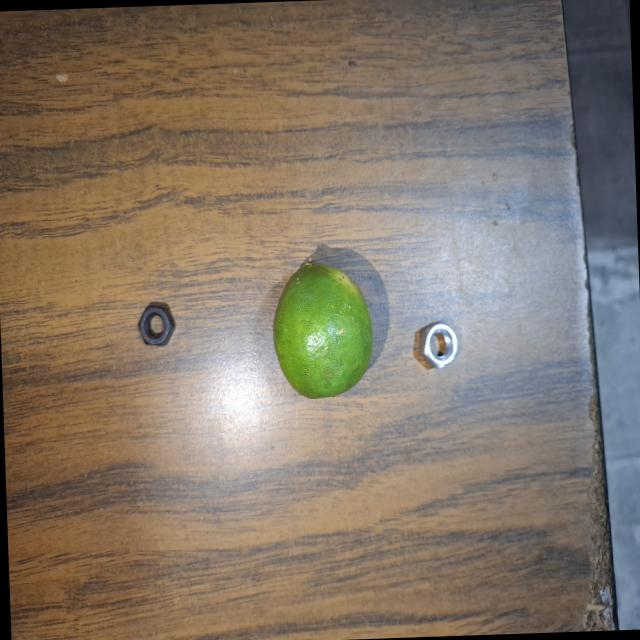limon: (265, 248, 383, 404)
milimetrico: (132, 292, 184, 353)
tuerca: (411, 308, 468, 376)
